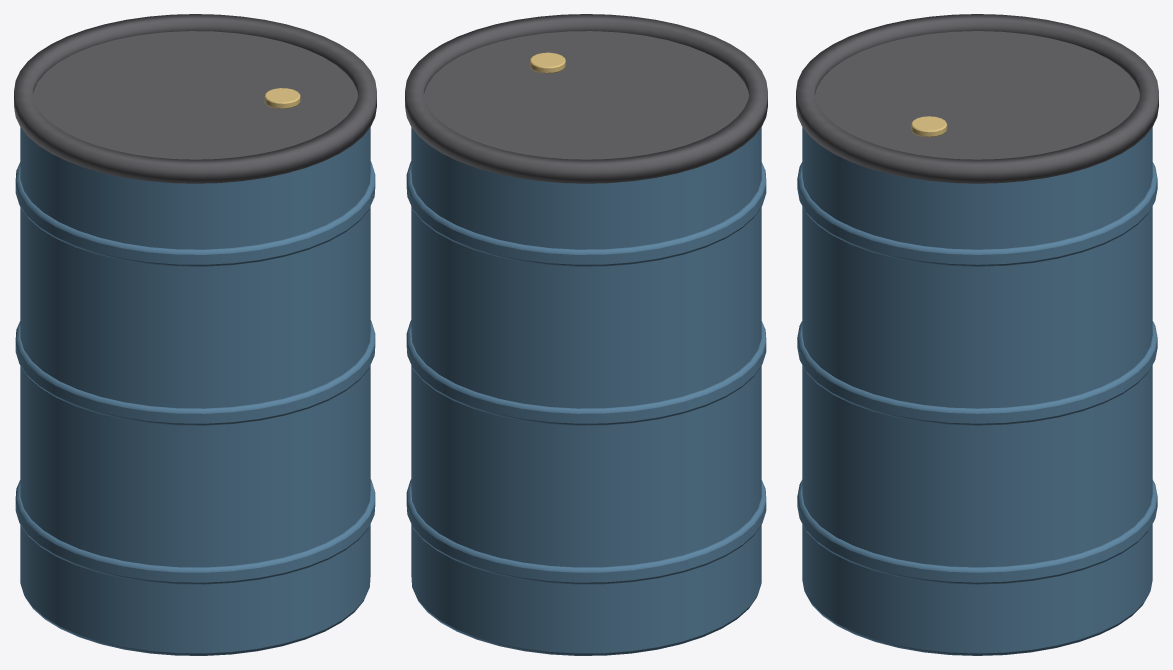
File: drum.glb
The picture shows the model from 3 angles, left to right: view 1: azimuth 30°, elevation 25°; view 2: azimuth 150°, elevation 25°; view 3: azimuth 270°, elevation 25°; orthographic projection.
Parts seen in each view (by area): view 1: drum; view 2: drum; view 3: drum.
Boxes of the visible parts, x1=… form: drum: x1=14, y1=14, x2=376, y2=655; drum: x1=405, y1=14, x2=767, y2=655; drum: x1=796, y1=14, x2=1158, y2=655.
Bounding box in the file's own units: 0.6 × 0.9 × 0.6.
